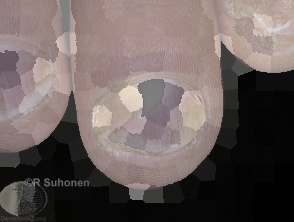Nail_psoriasis: (90, 73, 209, 162), (0, 34, 70, 134), (217, 0, 294, 65)
